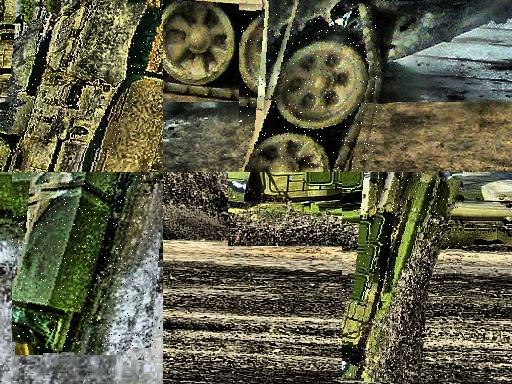tanks: (1, 1, 164, 173), (13, 173, 164, 355), (343, 173, 463, 378), (244, 1, 378, 173)
